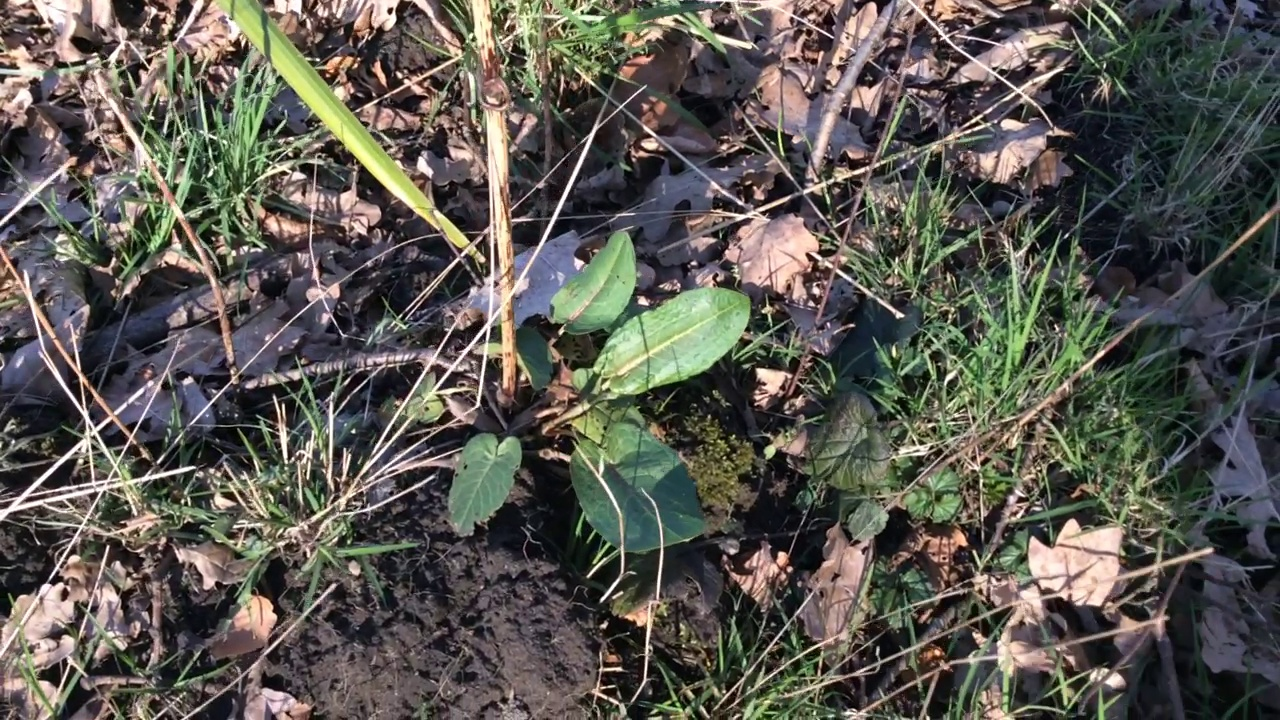rumex: (401, 230, 752, 555)
